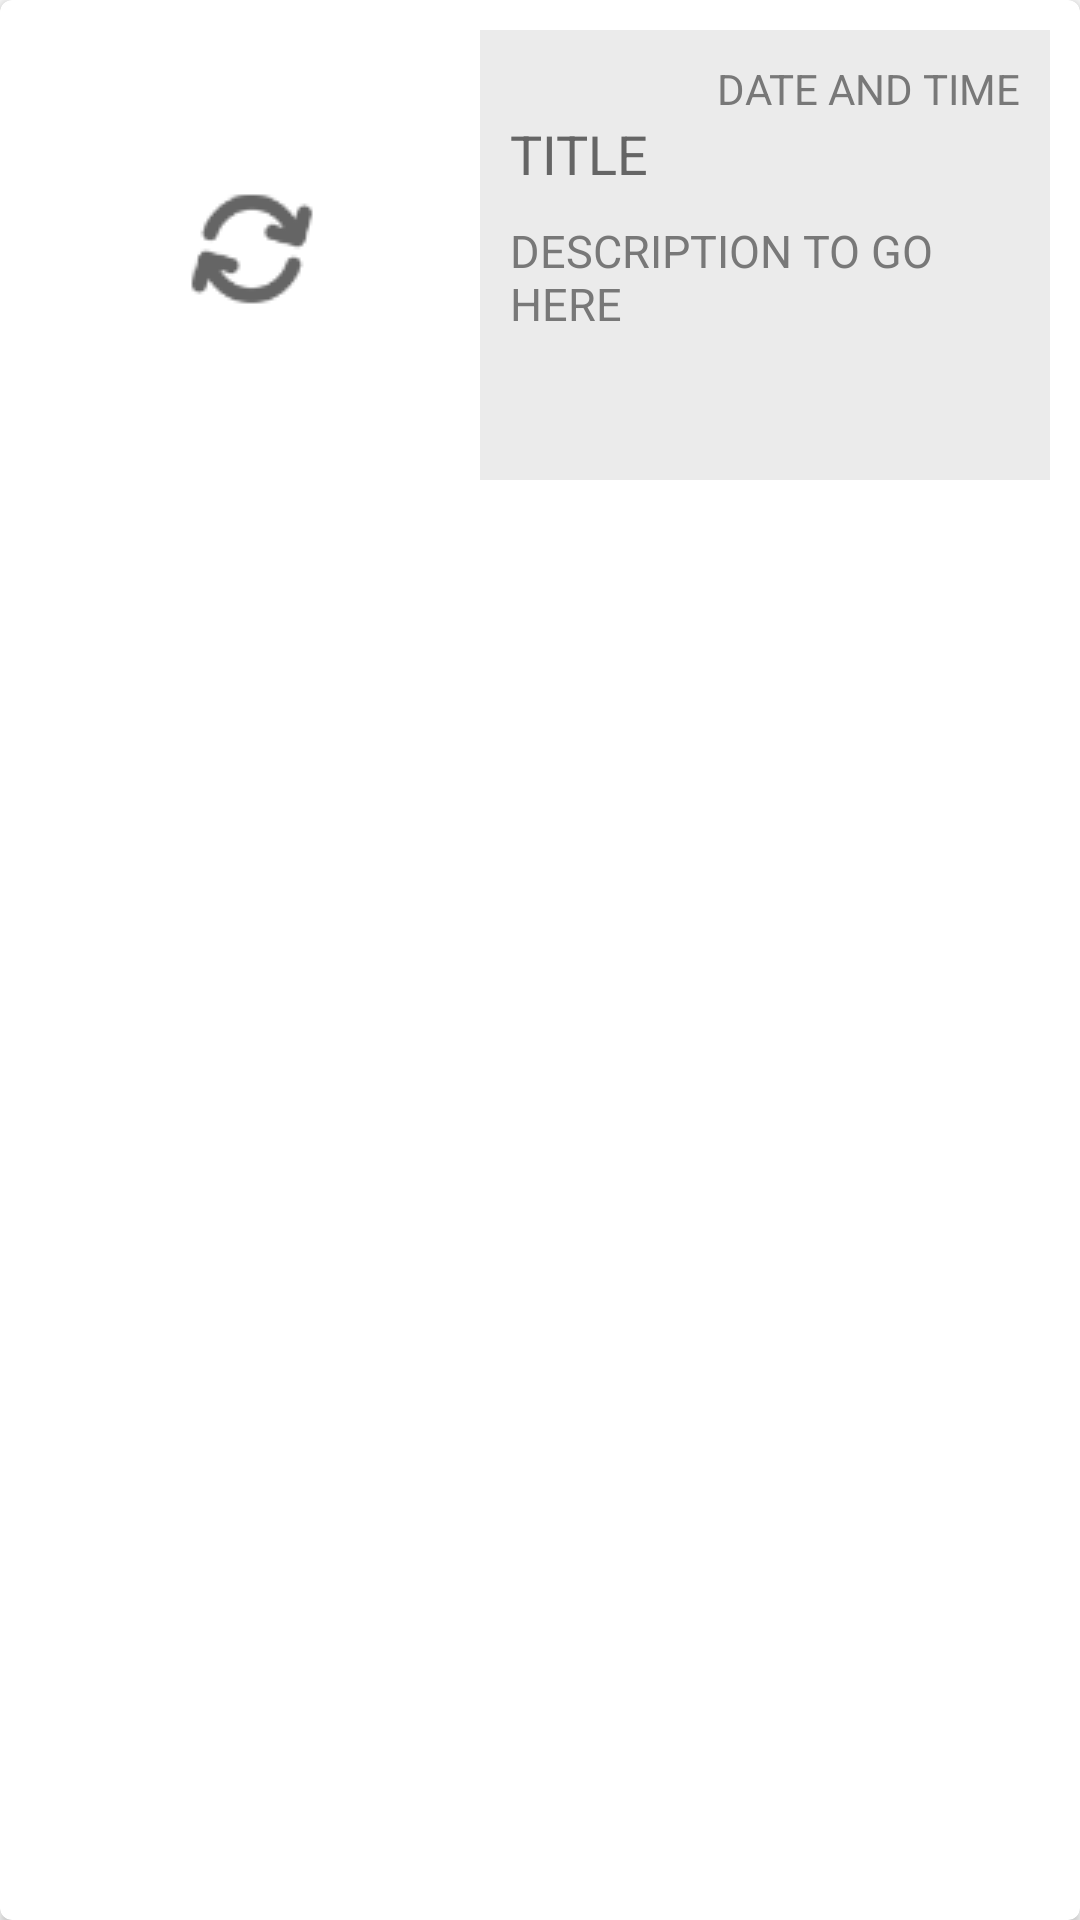

Screen size 1080 x 1920. Icon name, then its box in pixels as (x1, y1, x2, y2):
loading: (191, 194, 313, 304)
